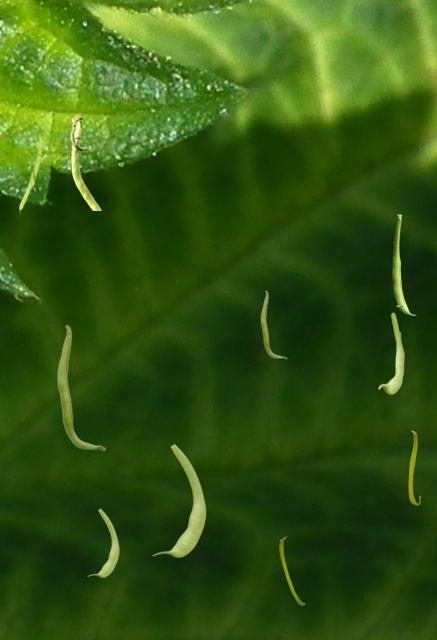french_bean: (56, 324, 105, 450), (152, 443, 205, 556), (70, 115, 100, 209), (392, 214, 415, 314), (87, 508, 118, 576), (378, 312, 403, 393), (18, 137, 41, 218), (260, 290, 286, 358), (279, 536, 304, 604), (408, 430, 419, 504)
